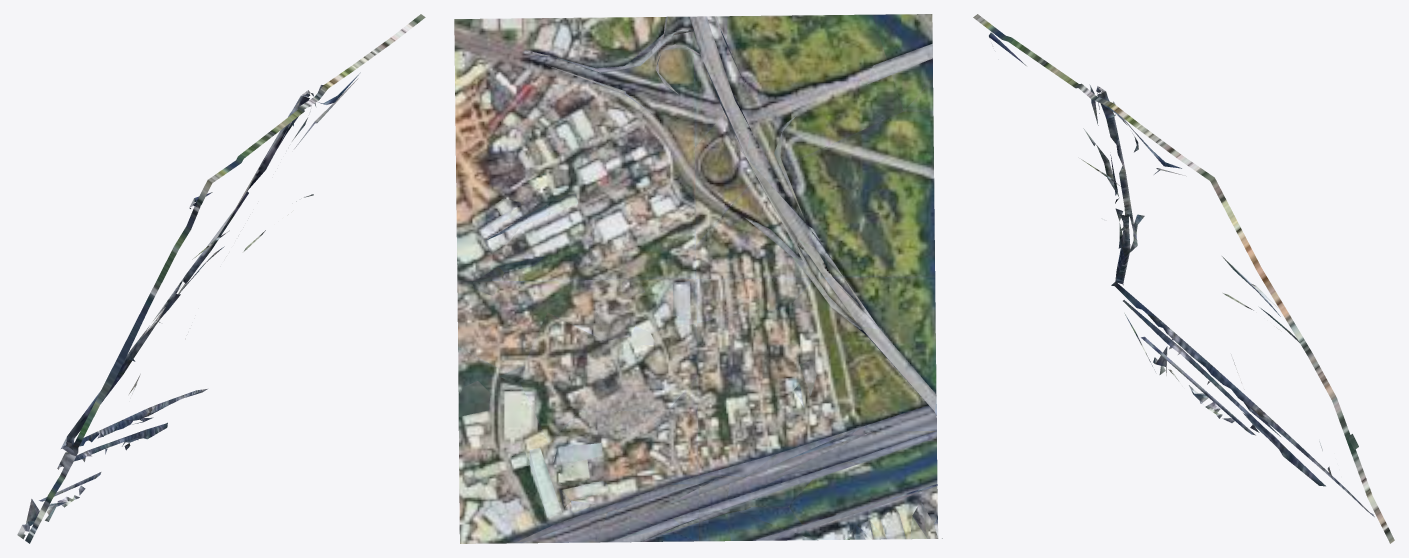
3 views of the same model, side by side, from view 1: azimuth 30°, elevation 25°; view 2: azimuth 150°, elevation 25°; view 3: azimuth 270°, elevation 25° (orthographic). The views are drawn at different scales.
Bounding box in the file's own units: 1247 × 1122 × 1030.
Materials: 1 (1 with a texture image).
